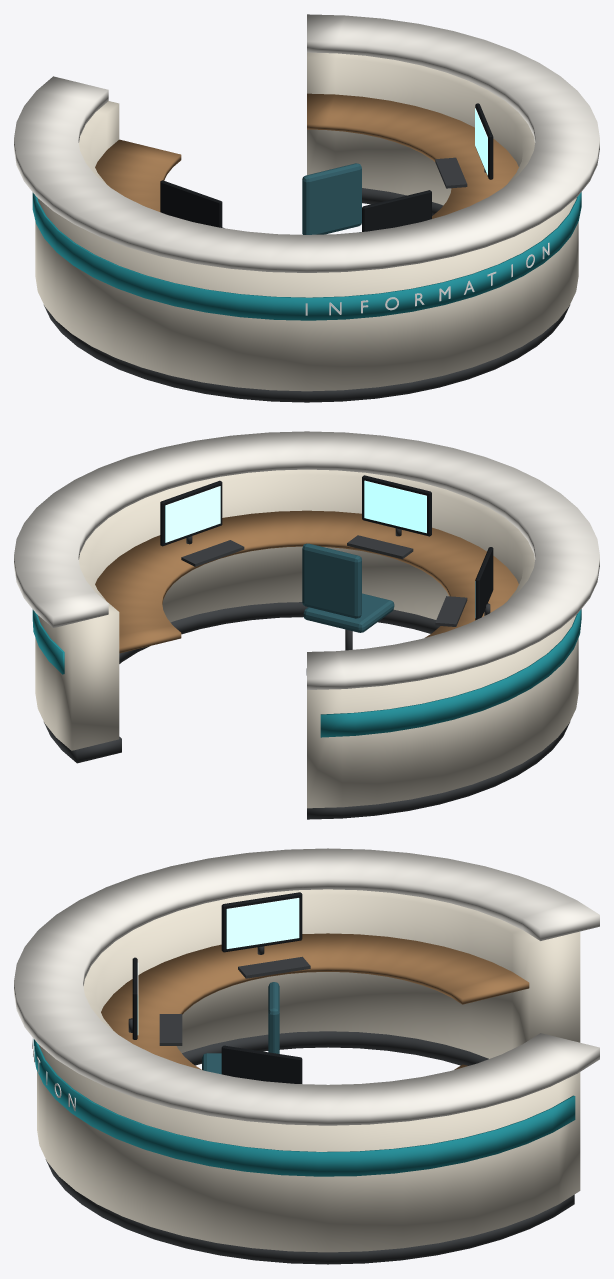
File: round_reception_desk.glb
3 renders of one model, top to bottom at view 1: azimuth 30°, elevation 25°; view 2: azimuth 150°, elevation 25°; view 3: azimuth 270°, elevation 25°, orthographic. The views are drawn at different scales.
Parts seen in each view (by area): view 1: RoundDesk_body, RoundDesk_ledge, RoundDesk_worktop, RoundDesk_band, RoundDesk_plinth, RoundDesk_chairBack, RoundDesk_mon0, RoundDesk_mon1, RoundDesk_kb2, RoundDesk_monGlow2; view 2: RoundDesk_body, RoundDesk_ledge, RoundDesk_worktop, RoundDesk_band, RoundDesk_plinth, RoundDesk_chairBack, RoundDesk_monGlow0, RoundDesk_monGlow2, RoundDesk_chairSeat, RoundDesk_mon1, RoundDesk_mon0, RoundDesk_mon2 (+3 smaller); view 3: RoundDesk_body, RoundDesk_ledge, RoundDesk_worktop, RoundDesk_band, RoundDesk_plinth, RoundDesk_monGlow1, RoundDesk_mon2, RoundDesk_mon1, RoundDesk_kb1, RoundDesk_chairBack, RoundDesk_kb0.
Boxes of the visible parts, left/top/right/bottom form: RoundDesk_body: left=35, top=52, right=578, bottom=391; RoundDesk_ledge: left=14, top=14, right=599, bottom=272; RoundDesk_worktop: left=95, top=93, right=518, bottom=218; RoundDesk_band: left=32, top=192, right=581, bottom=320; RoundDesk_plinth: left=44, top=188, right=569, bottom=402; RoundDesk_chairBack: left=302, top=163, right=361, bottom=234; RoundDesk_mon0: left=362, top=190, right=431, bottom=231; RoundDesk_mon1: left=160, top=180, right=222, bottom=227; RoundDesk_kb2: left=435, top=157, right=467, bottom=188; RoundDesk_monGlow2: left=475, top=108, right=487, bottom=175; RoundDesk_body: left=35, top=469, right=578, bottom=808; RoundDesk_ledge: left=14, top=431, right=599, bottom=689; RoundDesk_worktop: left=95, top=510, right=518, bottom=653; RoundDesk_band: left=32, top=609, right=581, bottom=737; RoundDesk_plinth: left=44, top=602, right=569, bottom=819; RoundDesk_chairBack: left=302, top=543, right=361, bottom=618; RoundDesk_monGlow0: left=364, top=480, right=426, bottom=533; RoundDesk_monGlow2: left=165, top=486, right=220, bottom=542; RoundDesk_chairSeat: left=303, top=593, right=394, bottom=632; RoundDesk_mon1: left=475, top=547, right=493, bottom=620; RoundDesk_mon0: left=362, top=475, right=431, bottom=536; RoundDesk_mon2: left=160, top=480, right=222, bottom=546; RoundDesk_body: left=37, top=889, right=580, bottom=1252; RoundDesk_ledge: left=14, top=848, right=599, bottom=1125; RoundDesk_worktop: left=101, top=933, right=529, bottom=1069; RoundDesk_band: left=33, top=1039, right=575, bottom=1176; RoundDesk_plinth: left=45, top=1031, right=574, bottom=1264; RoundDesk_monGlow1: left=226, top=898, right=299, bottom=948; RoundDesk_mon2: left=221, top=1045, right=302, bottom=1083; RoundDesk_mon1: left=221, top=892, right=302, bottom=952; RoundDesk_kb1: left=238, top=956, right=310, bottom=978; RoundDesk_chairBack: left=268, top=982, right=279, bottom=1053; RoundDesk_kb0: left=159, top=1014, right=182, bottom=1045.
Size of the model in its own units: 3.84 by 1.14 by 3.58.
